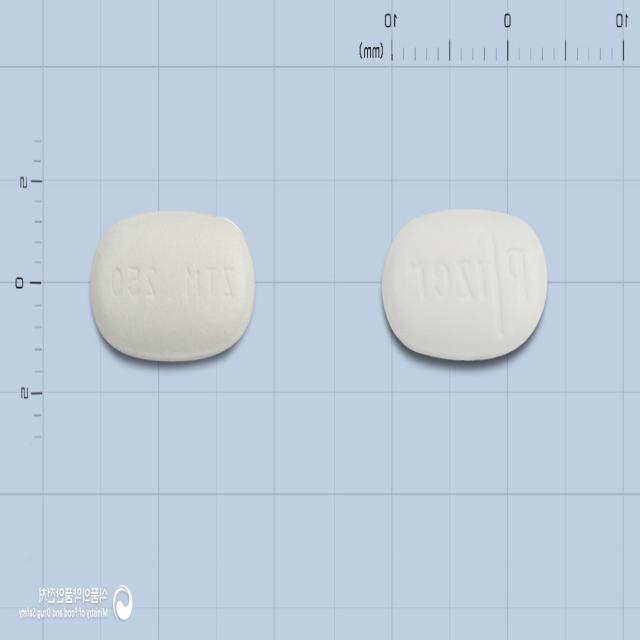Claritin: (380, 206, 549, 363), (89, 208, 255, 359)
